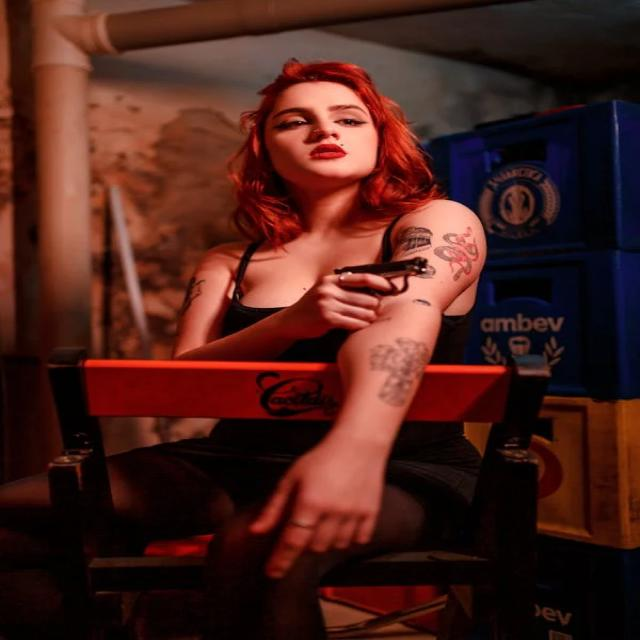Edited images: (161, 40, 574, 640)
